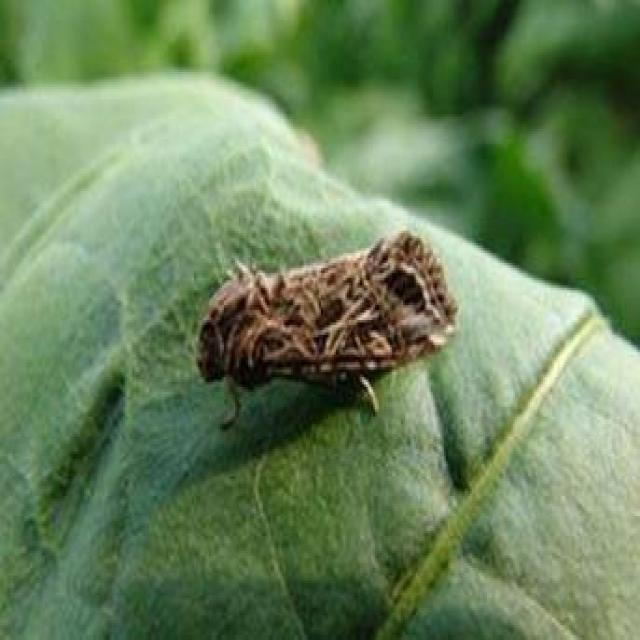BeetArmyWorm-Adult-: (167, 223, 478, 447)
